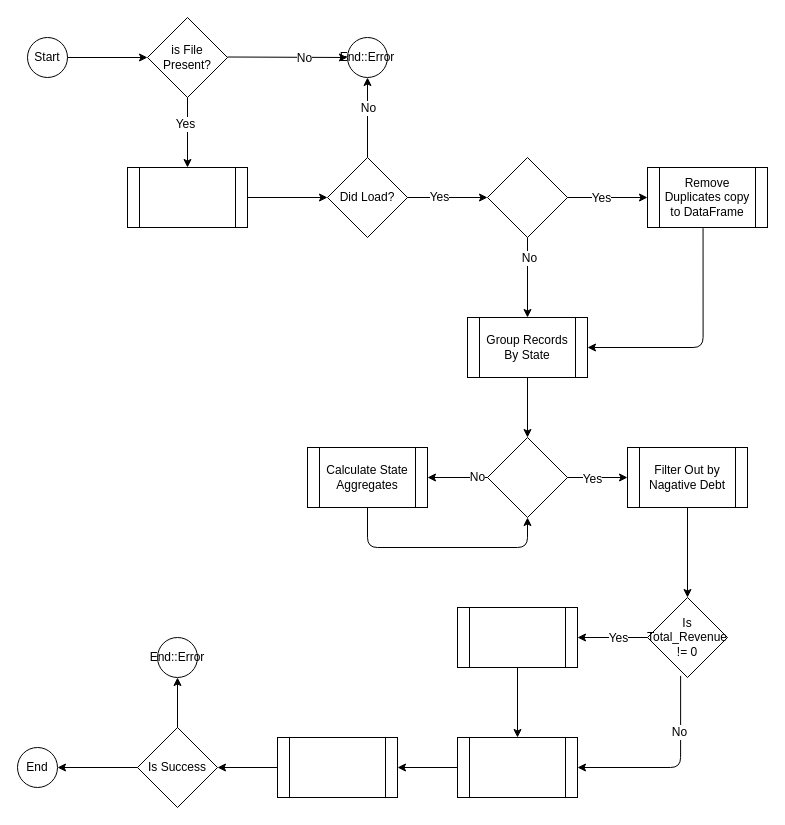
Image size: 785x825. Some labels were removed from this diagram. Here are the shapes that lost their labels. From the top down, the centre of each, then its label:
the point at 187,197: Try Load
the point at 527,197: Duplicate Records?
the point at 527,477: All States Aggregated?
the point at 517,637: Calc Stats
the point at 337,767: Write out to Disk
the point at 517,767: Combine Records
